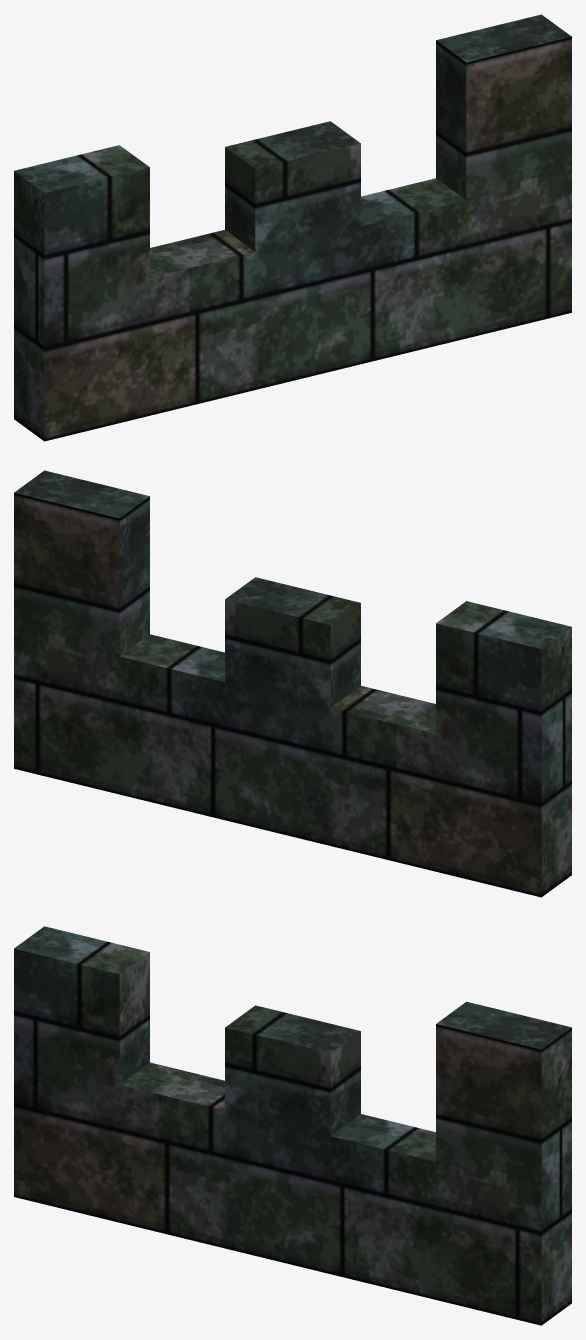
File: SM_CastleRuinWallV1.fbx
3 views of the same model, one above another, from view 1: azimuth 30°, elevation 25°; view 2: azimuth 150°, elevation 25°; view 3: azimuth 330°, elevation 25° (orthographic).
Visible parts, largest first — view 1: SM_CastleRuinWallV1; view 2: SM_CastleRuinWallV1; view 3: SM_CastleRuinWallV1.
Part boxes in pixels (x1,y1,x2,y2): SM_CastleRuinWallV1: (14, 14, 571, 441); SM_CastleRuinWallV1: (14, 470, 571, 897); SM_CastleRuinWallV1: (14, 926, 571, 1325).
Size of the model in its own units: 2000 by 1000 by 200.
